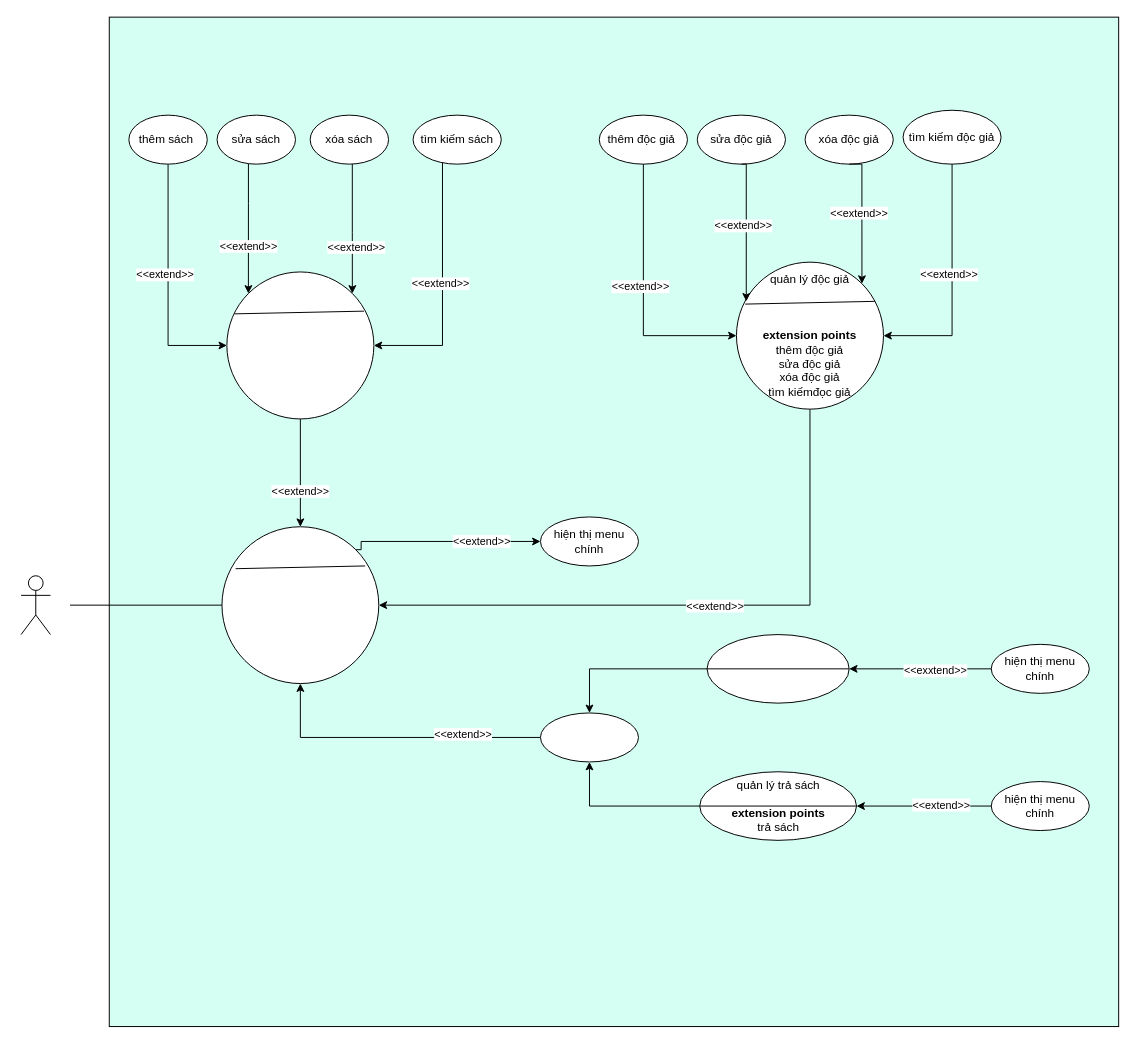
Some shapes in this 1136 by 1044 pixel diagram are drawn without their labels. The shapes that lost their labels are listed below. From the top down, each one's centre as x and y in pixels, then its label:
At point 300,345: "quản lý sách extension points thêm sách sửa sách xóa sách tìm kiếm sách".
At point 35,605: "thủ thư".
At point 300,605: "Đăng nhập extension points quản lý sách quản lý độc giả quản lý mượn-trả sách".
At point 777,668: "quản lý mượn sách extension points mượn sách".
At point 588,737: "quản lý mượn-trả sách".
